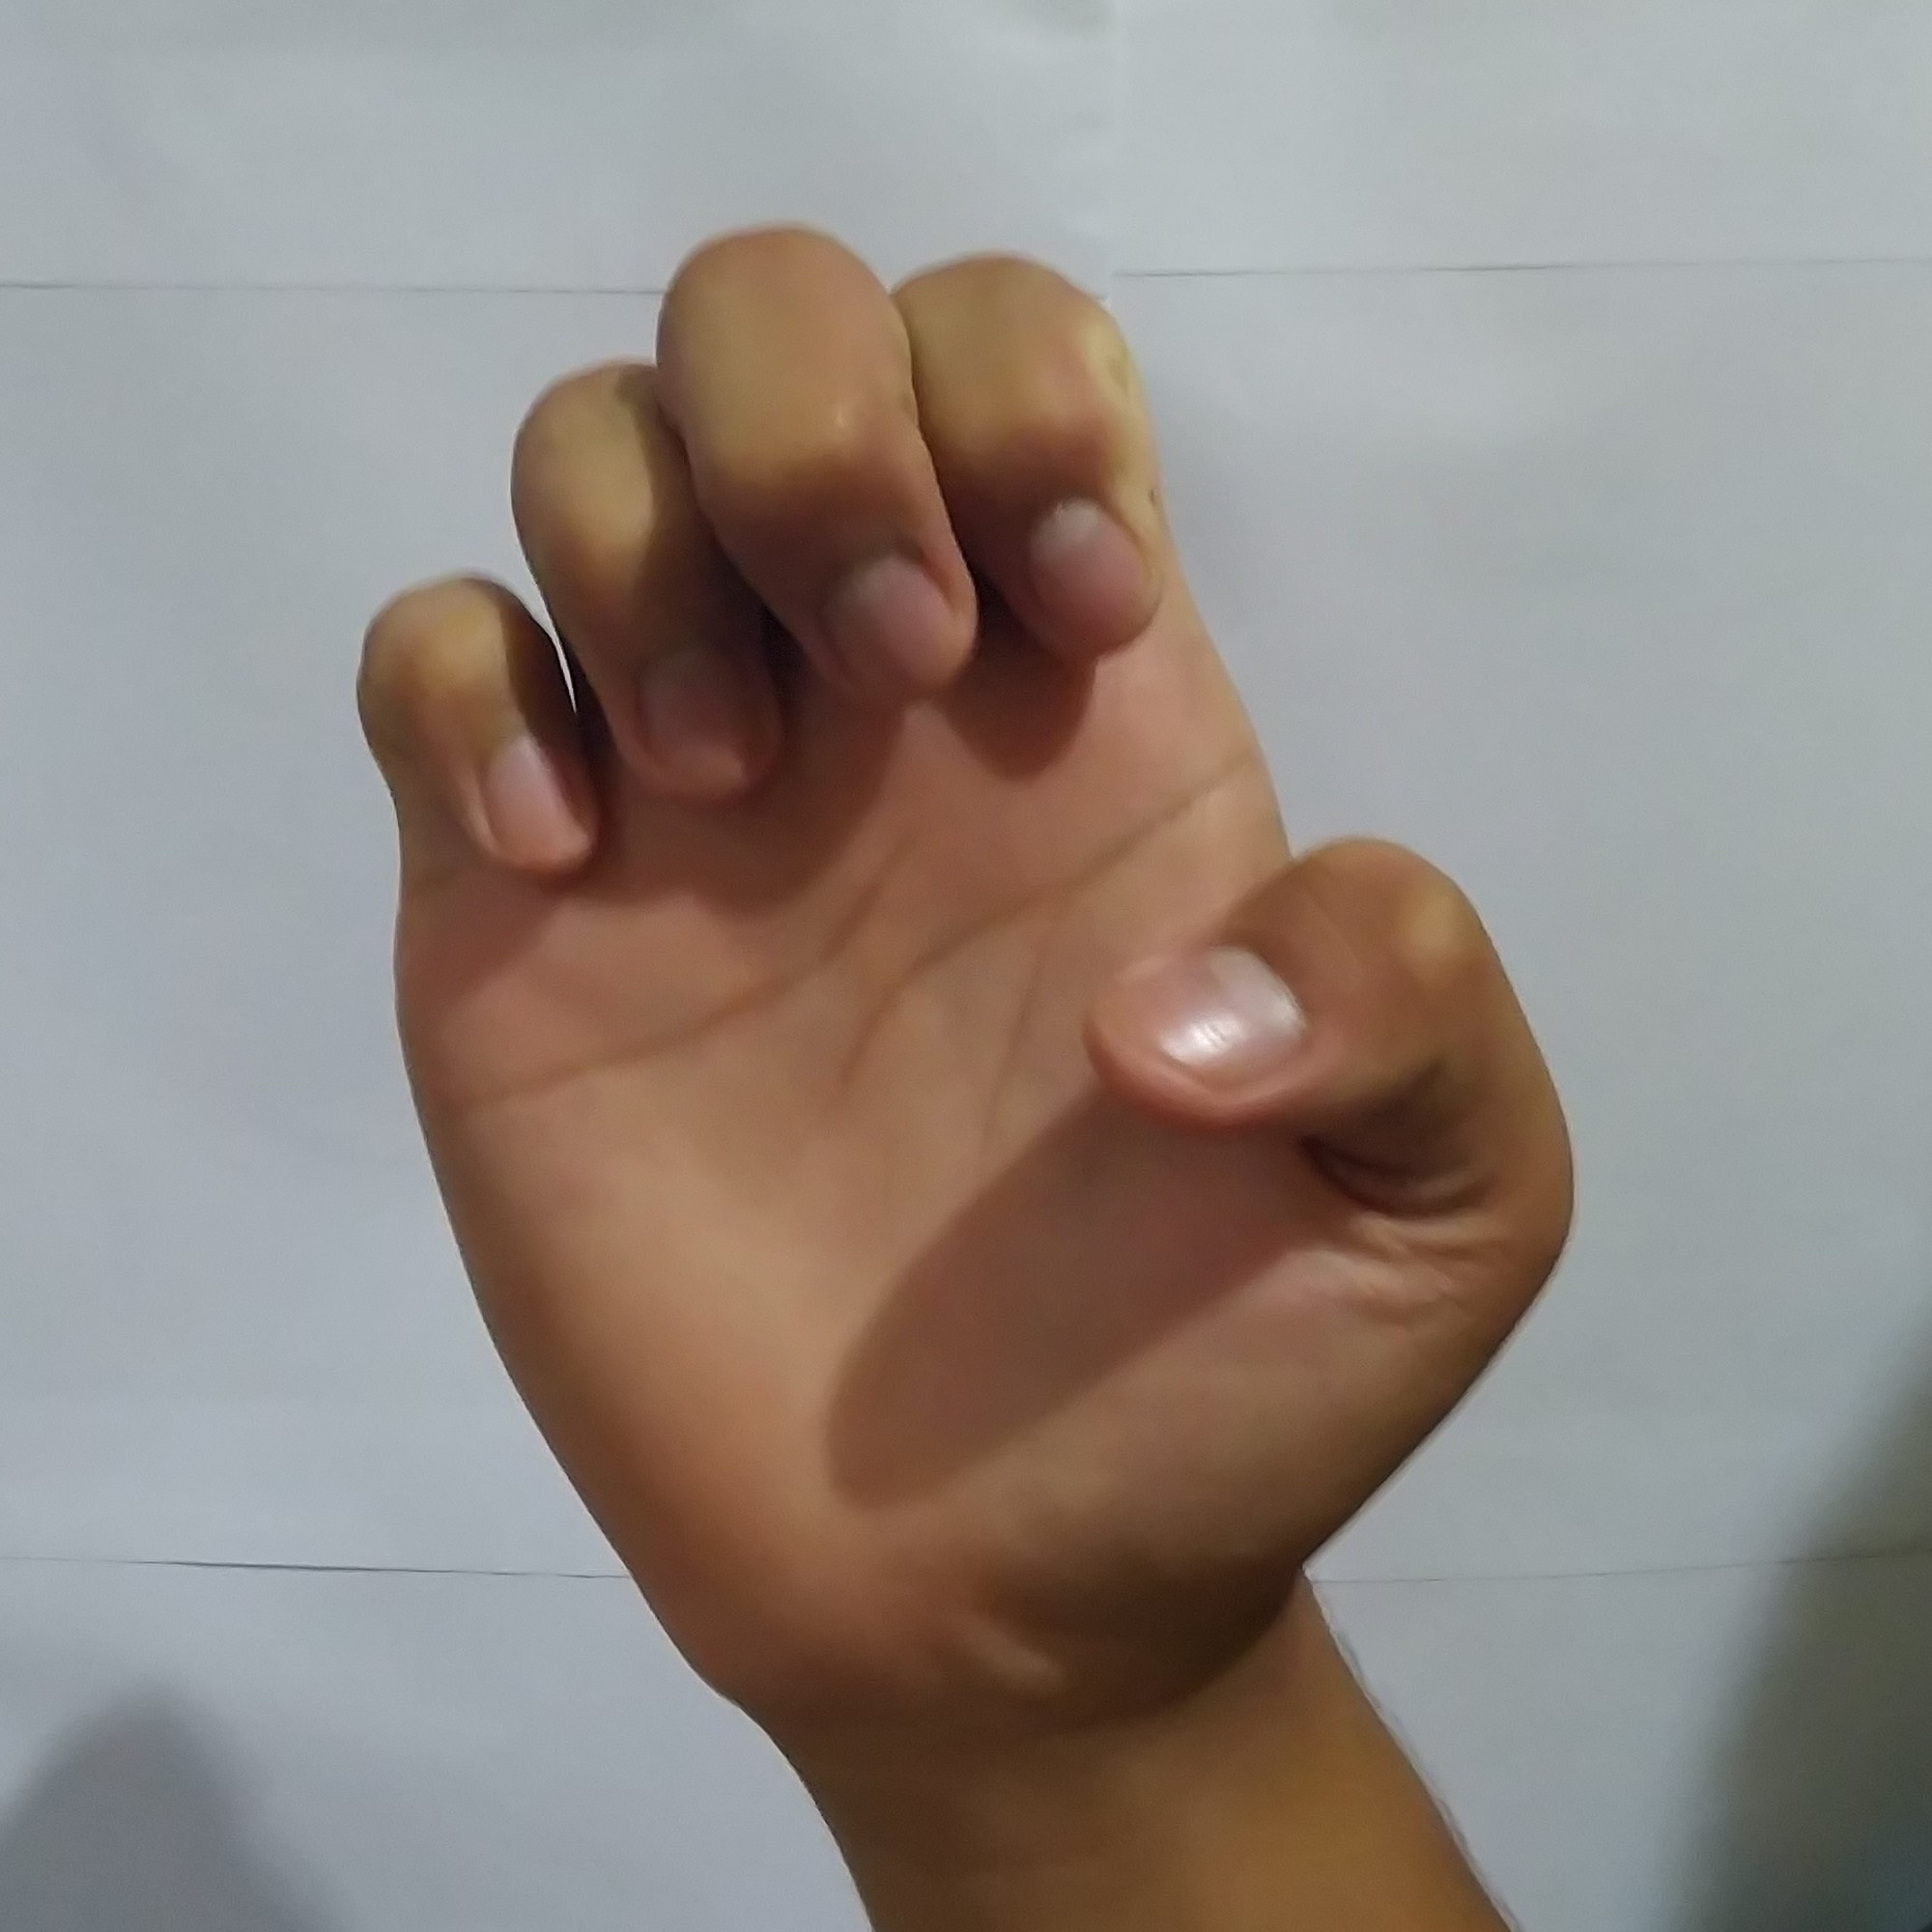E: (327, 202, 1594, 1596)
